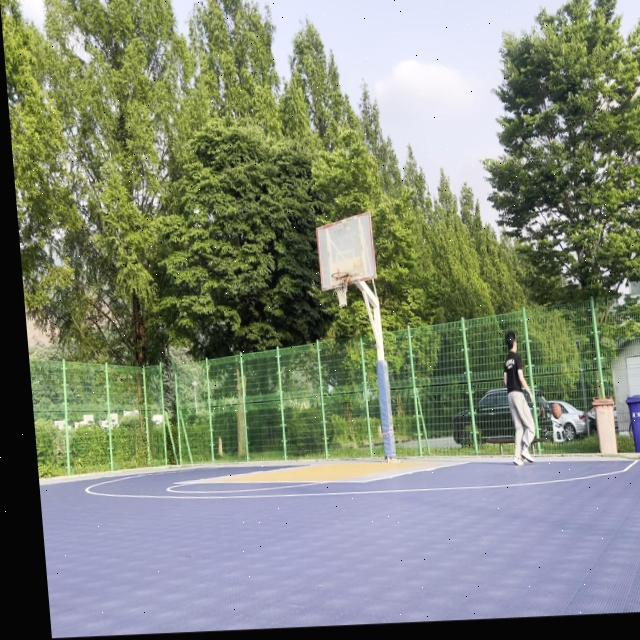basketball: (551, 402, 563, 420)
hoop: (330, 271, 352, 309)
